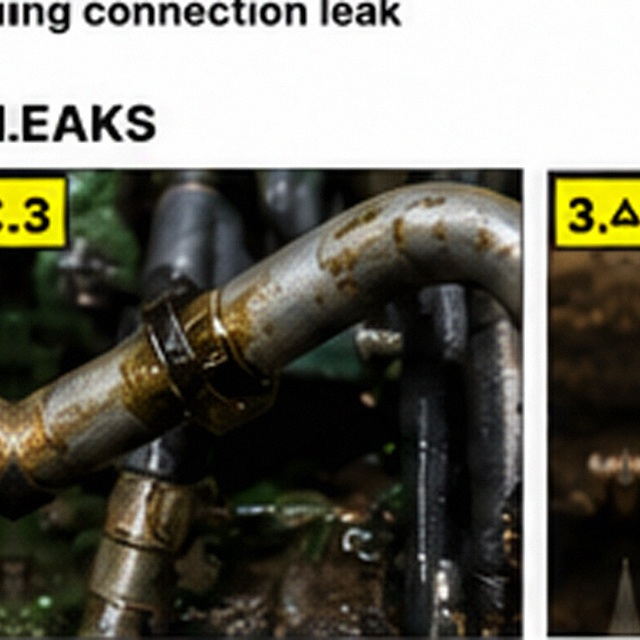hydraulic_oil_leak: (163, 154, 429, 463)
